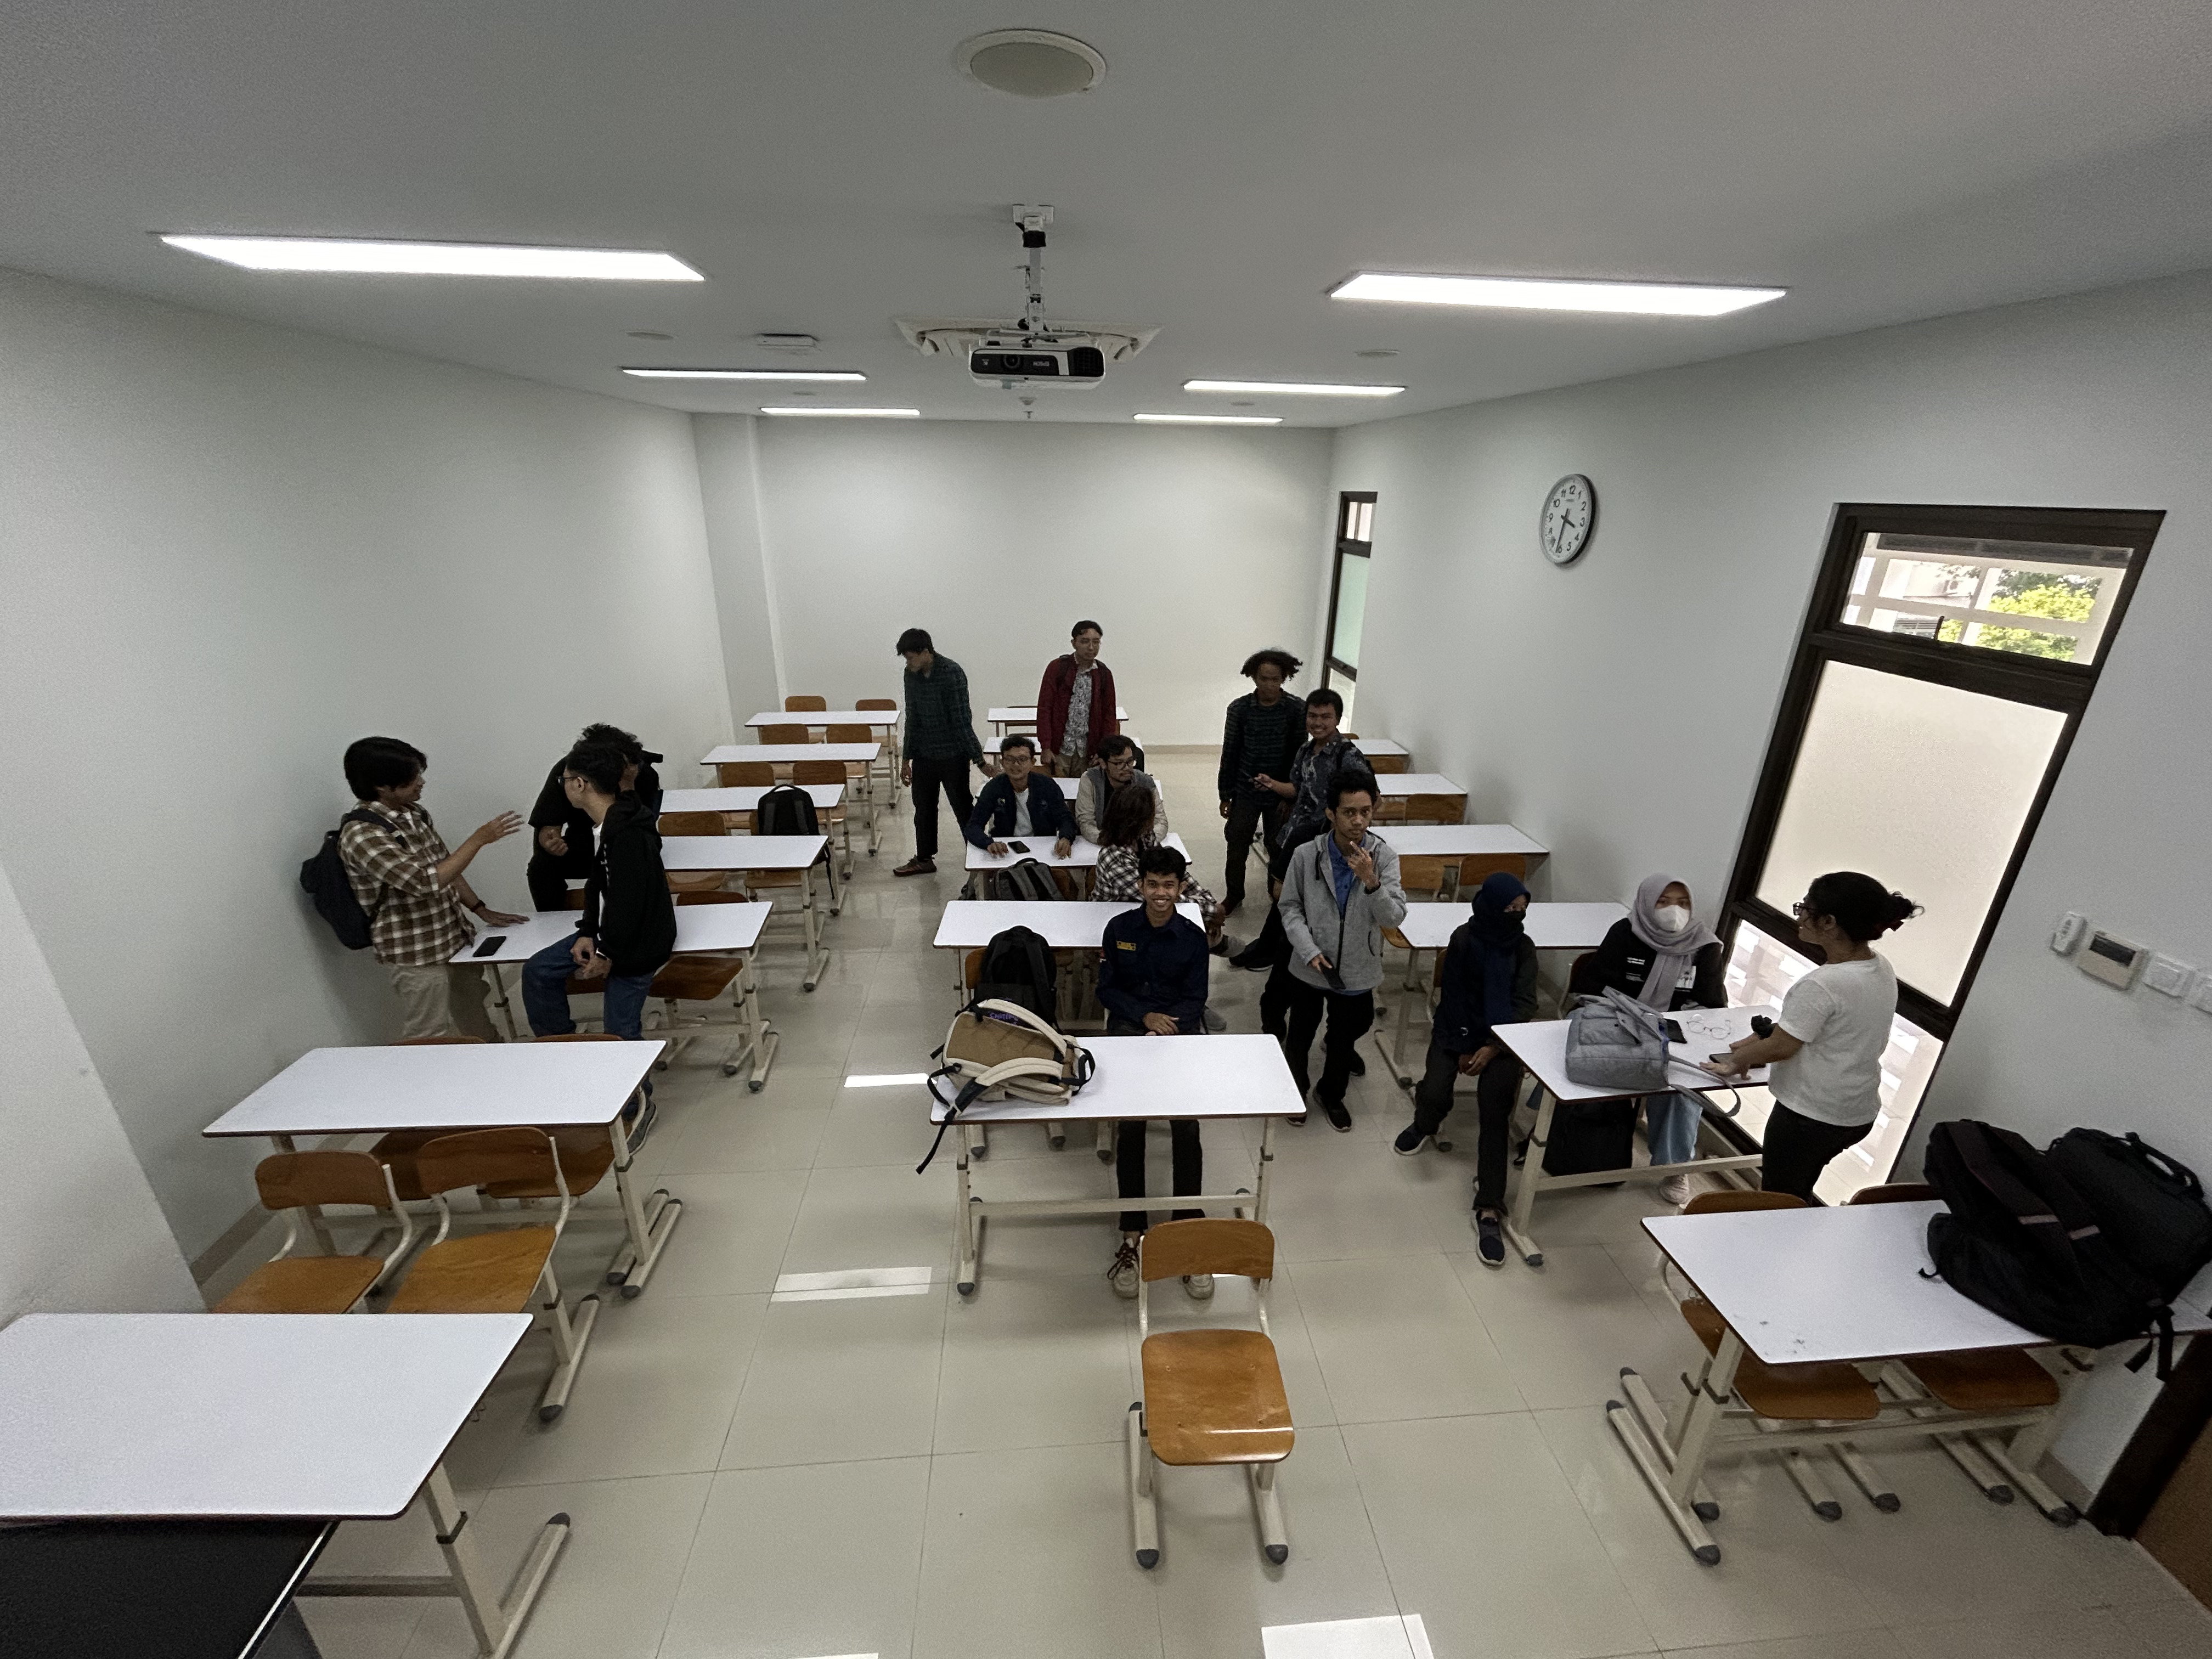person: (1763, 865, 1924, 1249), (294, 713, 496, 1019), (1420, 868, 1570, 1276), (1279, 776, 1398, 1146), (549, 721, 682, 1052), (1583, 870, 1746, 1049), (1215, 637, 1305, 924), (873, 619, 972, 868), (1103, 853, 1209, 1026), (1025, 601, 1142, 737), (1080, 788, 1200, 907), (974, 741, 1062, 846), (1293, 689, 1357, 755), (1087, 736, 1149, 791)
